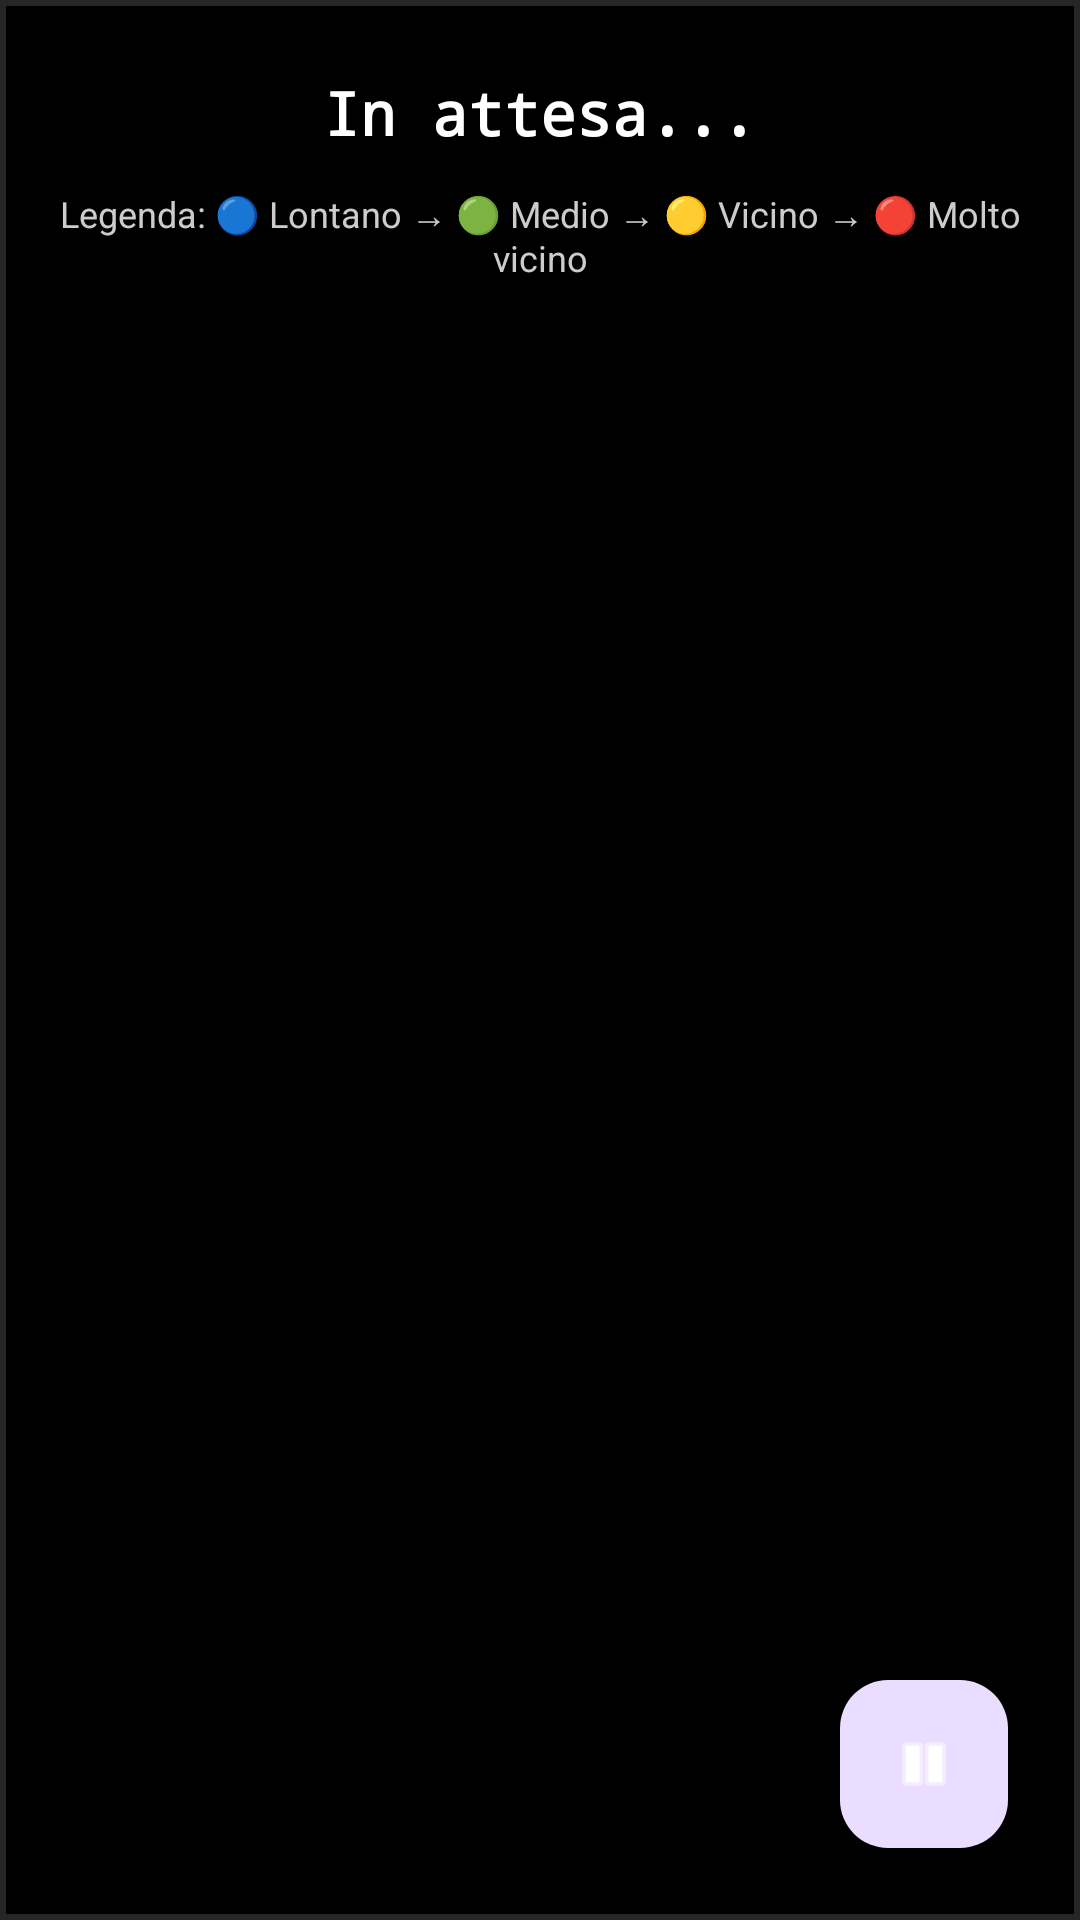

Named icons in this screenshot (1080w x 1920h) and their centers, [x,y]:
Avvia/Ferma rilevamento: [924,1764]
